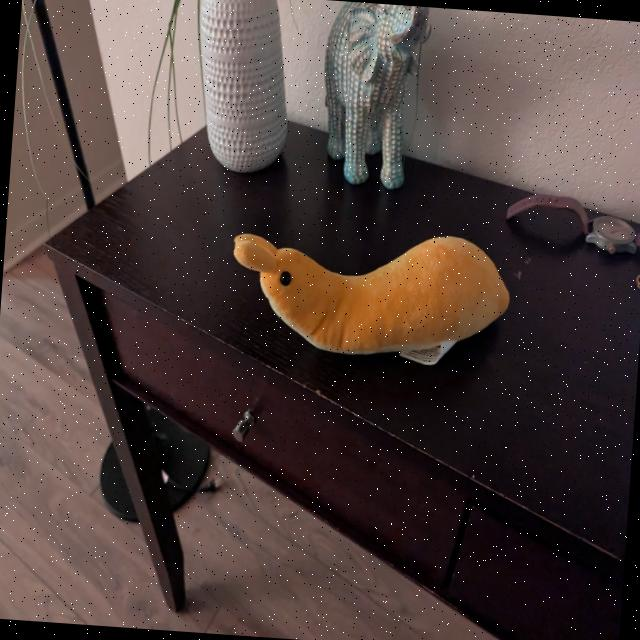banana-slug-toy: (219, 222, 528, 376)
